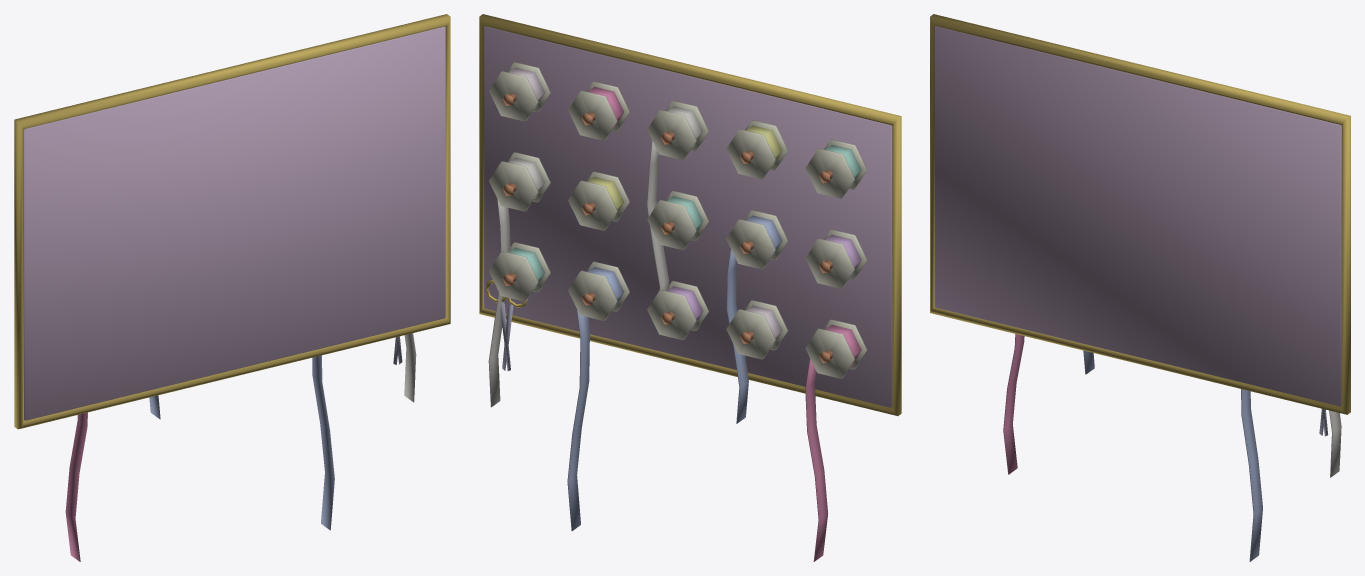
Rendered from seam_ribbon_rack.glb.
3 views of the same model, side by side, from view 1: azimuth 30°, elevation 25°; view 2: azimuth 150°, elevation 25°; view 3: azimuth 330°, elevation 25° (orthographic). The views are drawn at different scales.
Parts seen in each view (by area): view 1: seam_ribbon_rack; view 2: seam_ribbon_rack; view 3: seam_ribbon_rack.
Part boxes in pixels (bbox=[...]): seam_ribbon_rack: bbox=[14, 14, 450, 561]; seam_ribbon_rack: bbox=[479, 14, 901, 561]; seam_ribbon_rack: bbox=[930, 14, 1350, 561].
Size of what is drawn, in the model's own units: 1.22 by 1.33 by 0.143.
